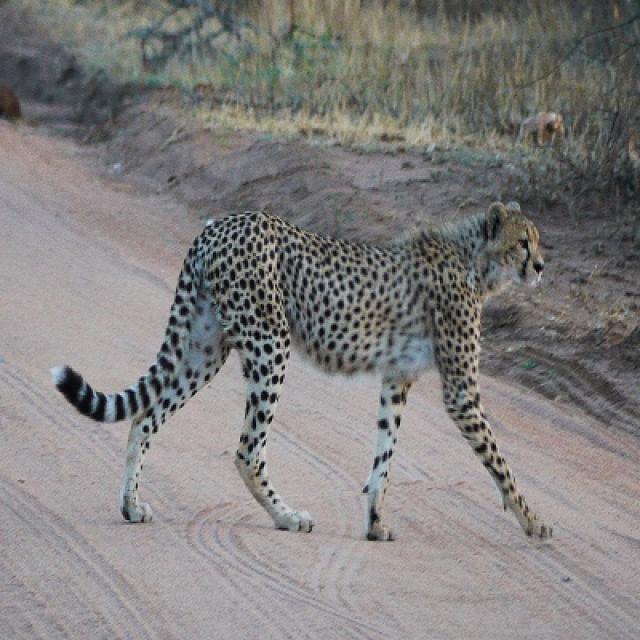Cheetah: (50, 202, 552, 541)
